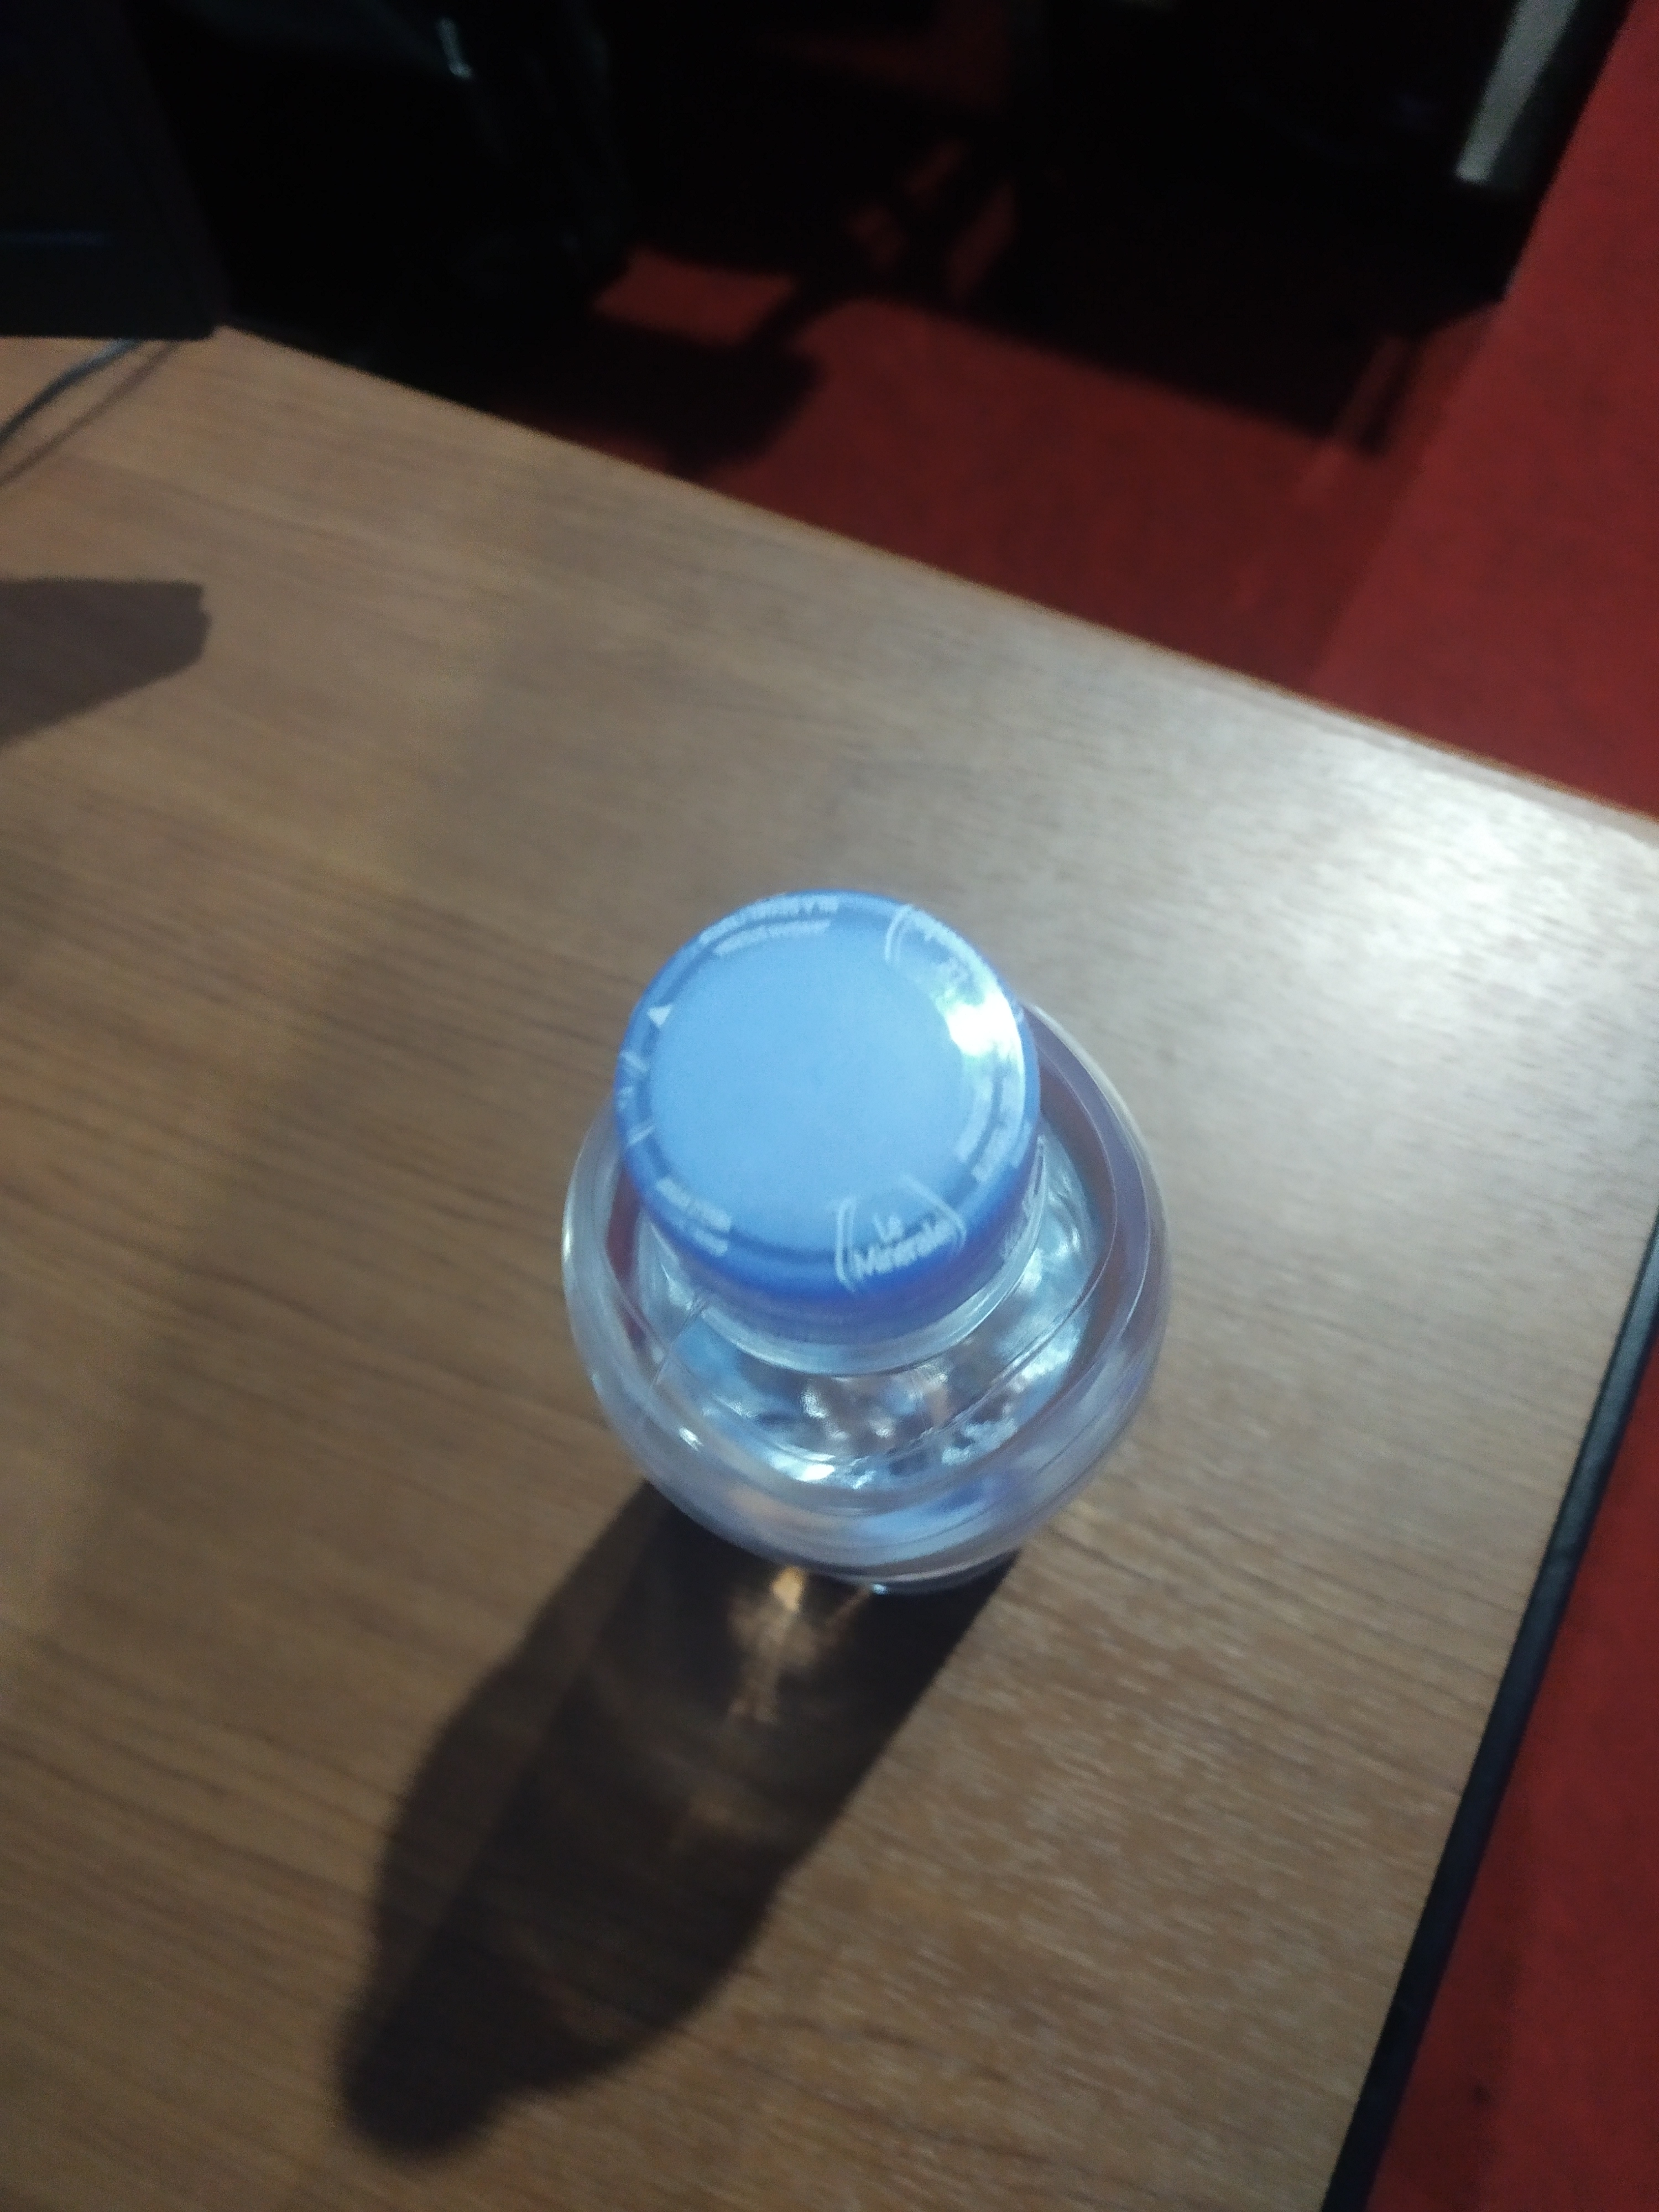botol_plastik: (523, 866, 1192, 1635)
